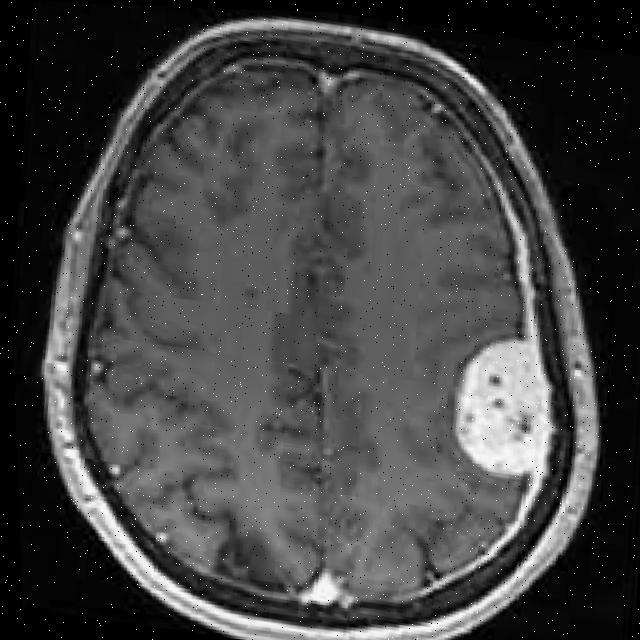Meningioma: (444, 328, 566, 486)
